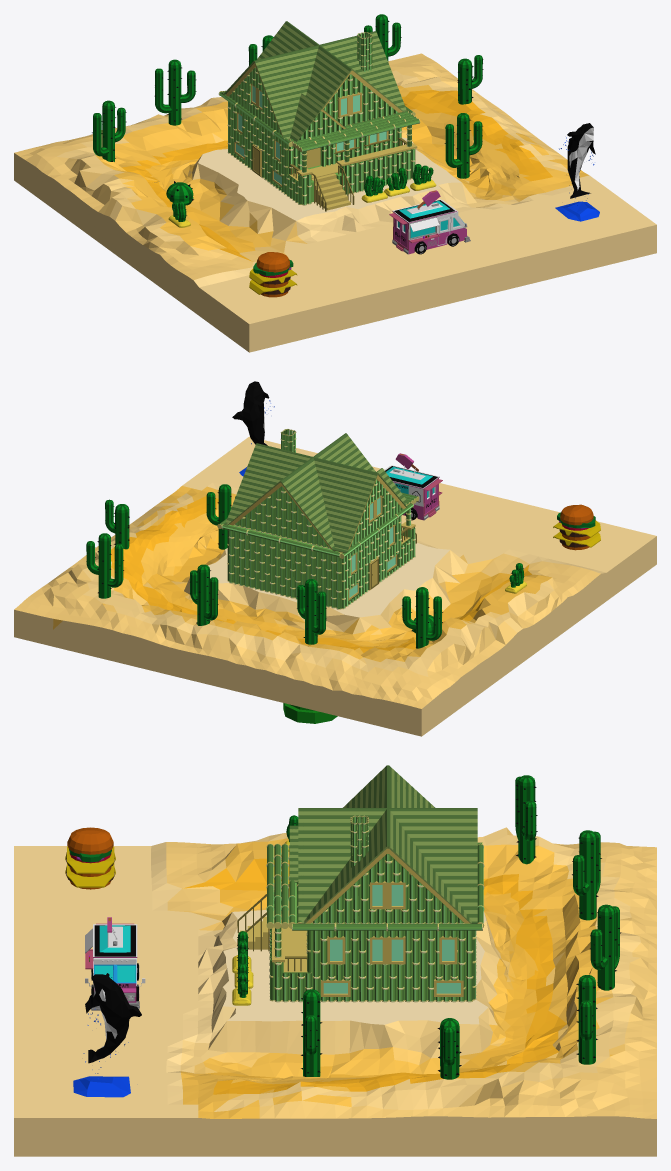
3 renders of one model, top to bottom at view 1: azimuth 30°, elevation 25°; view 2: azimuth 150°, elevation 25°; view 3: azimuth 270°, elevation 25°, orthographic. The views are drawn at different scales.
Parts seen in each view (by area): view 1: Cube.001, Cube.1327, VEHICLES_ICE_CREAM_TRUCK, ANIMAL_ORCA, OBJRANDOM_HAMBURGER, Cylinder.044, Cylinder.037, Cylinder.045, Cylinder.038, Cylinder.042, Cylinder.039, Cylinder.041 (+2 smaller); view 2: Cube.001, Cube.1327, VEHICLES_ICE_CREAM_TRUCK, OBJRANDOM_HAMBURGER, Cylinder.042, Cylinder.045, Cylinder.044, Cylinder.043, ANIMAL_ORCA, Cylinder.037, Cylinder.038, UNDERGROUND_PIPES; view 3: Cube.001, Cube.1327, ANIMAL_ORCA, VEHICLES_ICE_CREAM_TRUCK, OBJRANDOM_HAMBURGER, Cylinder.043, Cylinder.044, Cylinder.045, Cylinder.042, Cylinder.037, Cylinder.038, Cylinder.041.
Boxes of the visible parts, bbox=[...] form: Cube.001: bbox=[14, 53, 656, 352]; Cube.1327: bbox=[218, 21, 420, 211]; VEHICLES_ICE_CREAM_TRUCK: bbox=[389, 190, 470, 254]; ANIMAL_ORCA: bbox=[555, 123, 599, 221]; OBJRANDOM_HAMBURGER: bbox=[249, 252, 297, 297]; Cylinder.044: bbox=[154, 59, 196, 125]; Cylinder.037: bbox=[444, 113, 482, 178]; Cylinder.045: bbox=[92, 100, 126, 161]; Cylinder.038: bbox=[457, 55, 483, 104]; Cylinder.042: bbox=[364, 14, 401, 61]; Cylinder.039: bbox=[361, 175, 387, 202]; Cylinder.041: bbox=[410, 164, 436, 190]; Cube.001: bbox=[14, 436, 656, 736]; Cube.1327: bbox=[217, 429, 419, 609]; VEHICLES_ICE_CREAM_TRUCK: bbox=[384, 453, 442, 520]; OBJRANDOM_HAMBURGER: bbox=[553, 504, 600, 550]; Cylinder.042: bbox=[86, 533, 123, 598]; Cylinder.045: bbox=[402, 587, 442, 648]; Cylinder.044: bbox=[297, 579, 326, 644]; Cylinder.043: bbox=[190, 564, 218, 625]; ANIMAL_ORCA: bbox=[232, 381, 274, 476]; Cylinder.037: bbox=[206, 484, 235, 549]; Cylinder.038: bbox=[105, 499, 129, 549]; UNDERGROUND_PIPES: bbox=[283, 703, 337, 723]; Cube.001: bbox=[14, 827, 656, 1156]; Cube.1327: bbox=[237, 765, 484, 1002]; ANIMAL_ORCA: bbox=[73, 973, 141, 1097]; VEHICLES_ICE_CREAM_TRUCK: bbox=[85, 917, 145, 1010]; OBJRANDOM_HAMBURGER: bbox=[65, 827, 115, 889]; Cylinder.043: bbox=[589, 904, 621, 990]; Cylinder.044: bbox=[572, 830, 601, 920]; Cylinder.045: bbox=[515, 775, 537, 864]; Cylinder.042: bbox=[576, 975, 597, 1064]; Cylinder.037: bbox=[301, 989, 322, 1076]; Cylinder.038: bbox=[437, 1018, 461, 1079]; Cylinder.041: bbox=[232, 963, 251, 1005].
Size of the model in its own units: 4002 by 2219 by 4001.
37 materials, 3 textured.
